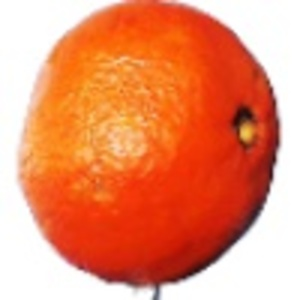tangerina: (15, 1, 284, 300)
